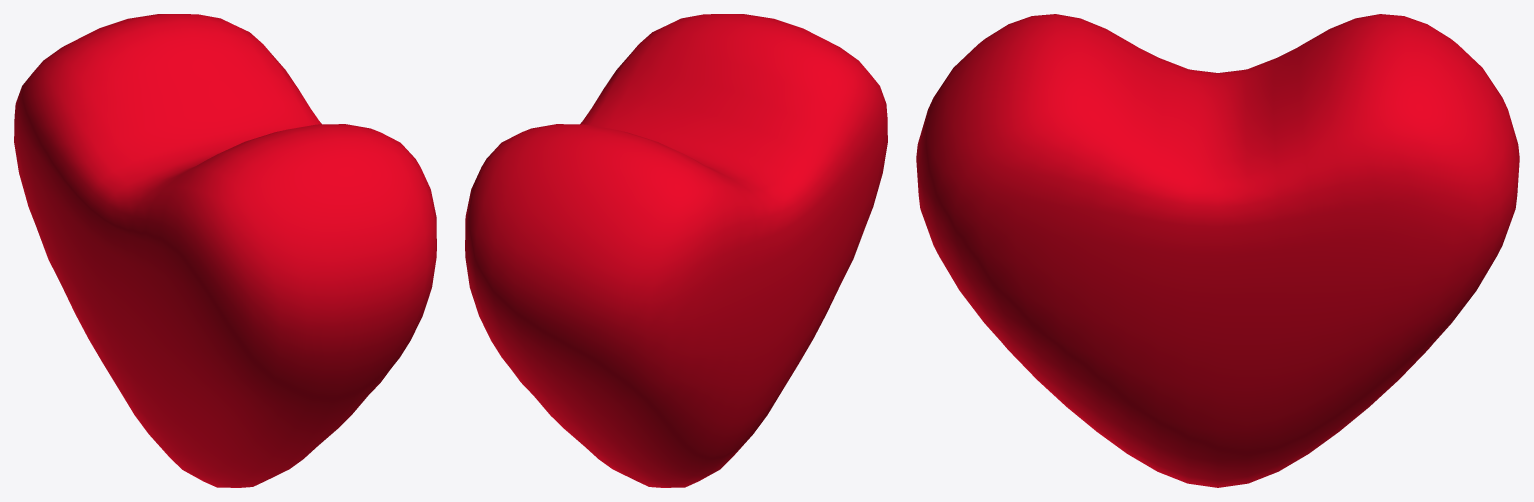
File: corazon.gltf
3 renders of one model, left to right at view 1: azimuth 30°, elevation 25°; view 2: azimuth 150°, elevation 25°; view 3: azimuth 270°, elevation 25°, orthographic. The views are drawn at different scales.
Visible parts, largest first — view 1: Cube; view 2: Cube; view 3: Cube.
Boxes of the visible parts, <box> form: Cube: <box>14,14,436,487</box>; Cube: <box>465,14,887,487</box>; Cube: <box>916,14,1519,487</box>.
Size of the model in its own units: 1.01 by 1.58 by 1.94.
